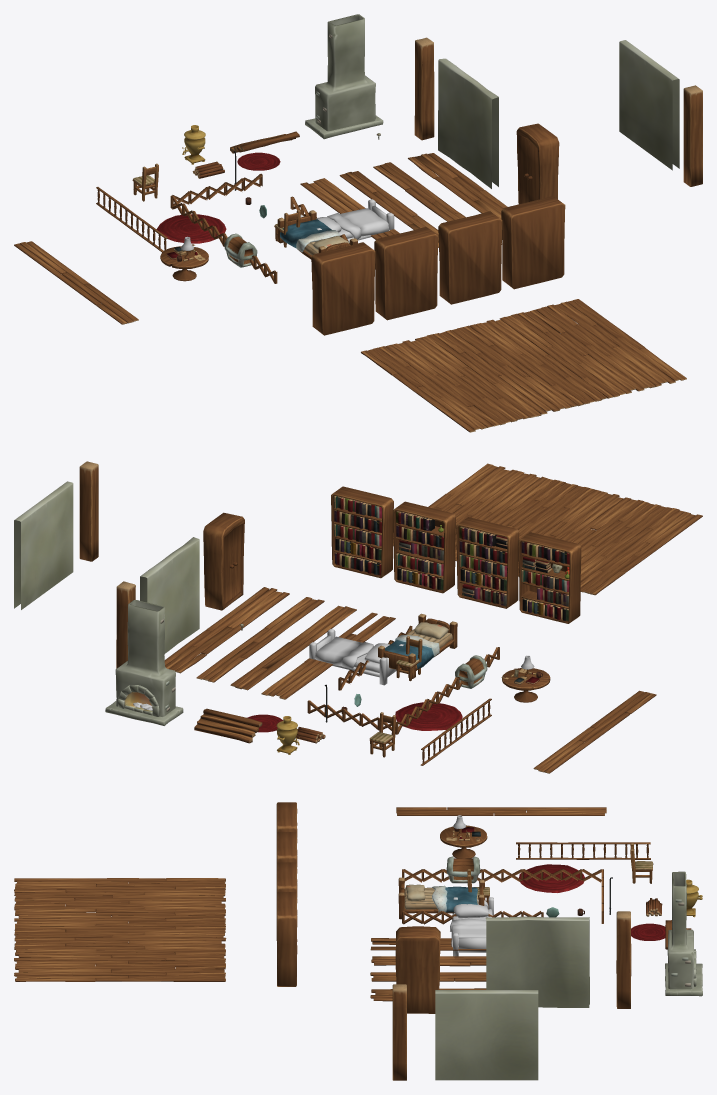
Rendered from FurnitureItems.obj.
The picture shows the model from 3 angles, top to bottom: view 1: azimuth 30°, elevation 25°; view 2: azimuth 150°, elevation 25°; view 3: azimuth 270°, elevation 25°; orthographic projection. The views are drawn at different scales.
Visible parts, largest first — view 1: Cube.008_Cube.011, Cube.009_Cube.021, wall_Cube.026, furnace_Cube.027, bookshelf.002_Cube.044, bookshelf.003_Cube.047, bookshelf.001_Cube.008, bookshelf.004_Cube.048, cupboard_Cube.012, planks4_Cube.028, Cube.006_Cube.003, wall_planks_Cube.020 (+12 smaller); view 2: Cube.008_Cube.011, Cube.009_Cube.021, furnace_Cube.027, bookshelf.002_Cube.044, bookshelf.001_Cube.008, bookshelf.003_Cube.047, bookshelf.004_Cube.048, wall_Cube.026, cupboard_Cube.012, planks4_Cube.028, bed_Cube.009, planks3_Cube.030 (+14 smaller); view 3: Cube.008_Cube.011, Cube.009_Cube.021, wall_Cube.026, cupboard_Cube.012, furnace_Cube.027, bed_Cube.009, Cube.015_Cube.067, bookshelf.004_Cube.048, Cube.006_Cube.003, wall_planks_Cube.020, rug_Circle.001, railings_Cube.034 (+12 smaller).
Boxes of the visible parts, bbox=[...] form: Cube.008_Cube.011: bbox=[361, 299, 686, 432]; Cube.009_Cube.021: bbox=[619, 40, 702, 186]; wall_Cube.026: bbox=[438, 58, 498, 188]; furnace_Cube.027: bbox=[305, 14, 383, 139]; bookshelf.002_Cube.044: bbox=[311, 242, 375, 335]; bookshelf.003_Cube.047: bbox=[438, 211, 502, 304]; bookshelf.001_Cube.008: bbox=[374, 227, 438, 320]; bookshelf.004_Cube.048: bbox=[501, 196, 565, 289]; cupboard_Cube.012: bbox=[516, 123, 559, 204]; planks4_Cube.028: bbox=[408, 153, 507, 218]; Cube.006_Cube.003: bbox=[14, 241, 138, 324]; wall_planks_Cube.020: bbox=[414, 37, 434, 140]; Cube.008_Cube.011: bbox=[393, 463, 702, 595]; Cube.009_Cube.021: bbox=[14, 461, 98, 609]; furnace_Cube.027: bbox=[105, 600, 183, 725]; bookshelf.002_Cube.044: bbox=[518, 532, 581, 623]; bookshelf.001_Cube.008: bbox=[456, 517, 519, 608]; bookshelf.003_Cube.047: bbox=[393, 501, 455, 593]; bookshelf.004_Cube.048: bbox=[331, 486, 393, 578]; wall_Cube.026: bbox=[140, 537, 199, 653]; cupboard_Cube.012: bbox=[203, 512, 244, 610]; planks4_Cube.028: bbox=[164, 587, 289, 673]; bed_Cube.009: bbox=[378, 613, 457, 678]; planks3_Cube.030: bbox=[196, 597, 324, 682]; Cube.008_Cube.011: bbox=[14, 878, 226, 981]; Cube.009_Cube.021: bbox=[392, 984, 538, 1080]; wall_Cube.026: bbox=[485, 916, 589, 1007]; cupboard_Cube.012: bbox=[395, 926, 440, 1013]; furnace_Cube.027: bbox=[665, 871, 702, 996]; bed_Cube.009: bbox=[398, 877, 485, 919]; Cube.015_Cube.067: bbox=[402, 869, 603, 924]; bookshelf.004_Cube.048: bbox=[276, 892, 297, 986]; Cube.006_Cube.003: bbox=[396, 807, 606, 815]; wall_planks_Cube.020: bbox=[616, 911, 631, 1008]; rug_Circle.001: bbox=[519, 864, 584, 892]; railings_Cube.034: bbox=[516, 842, 650, 859].
Bounding box in the file's own units: 30.92 × 5.88 × 32.91.
Materials: 8 (5 with a texture image).
